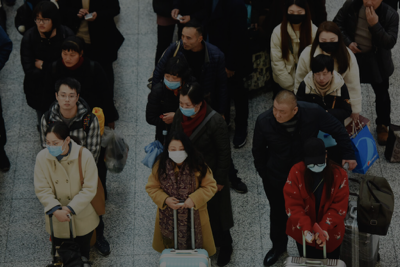with_mask: (168, 144, 189, 165), (45, 138, 65, 157), (162, 73, 182, 91), (179, 99, 198, 117), (319, 36, 339, 53), (288, 9, 306, 26), (308, 162, 328, 173)
without_mask: (57, 90, 78, 111), (62, 49, 81, 67), (273, 105, 291, 124), (181, 32, 198, 50), (36, 15, 52, 33), (315, 71, 332, 85)
